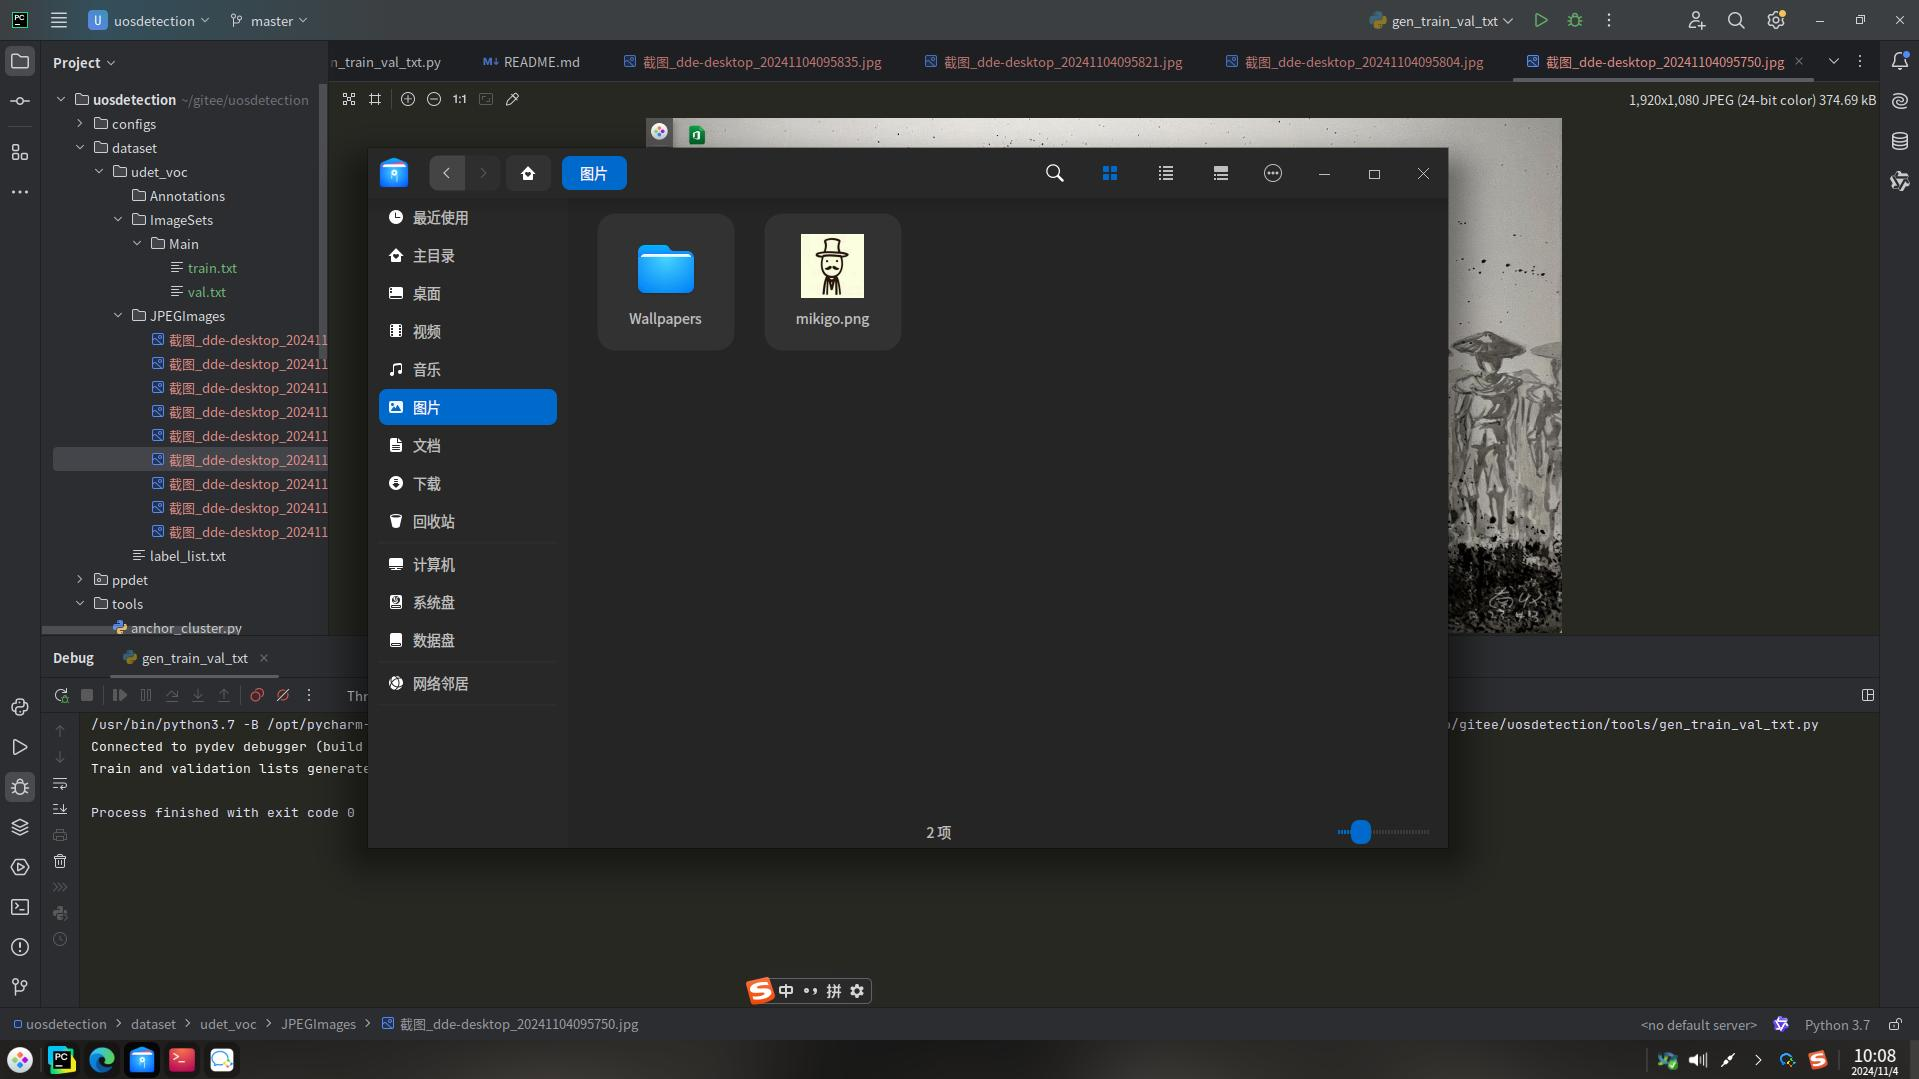dde_file_manager_icon: (129, 1045, 156, 1074)
dde_launcher_icon: (4, 1045, 37, 1074)
